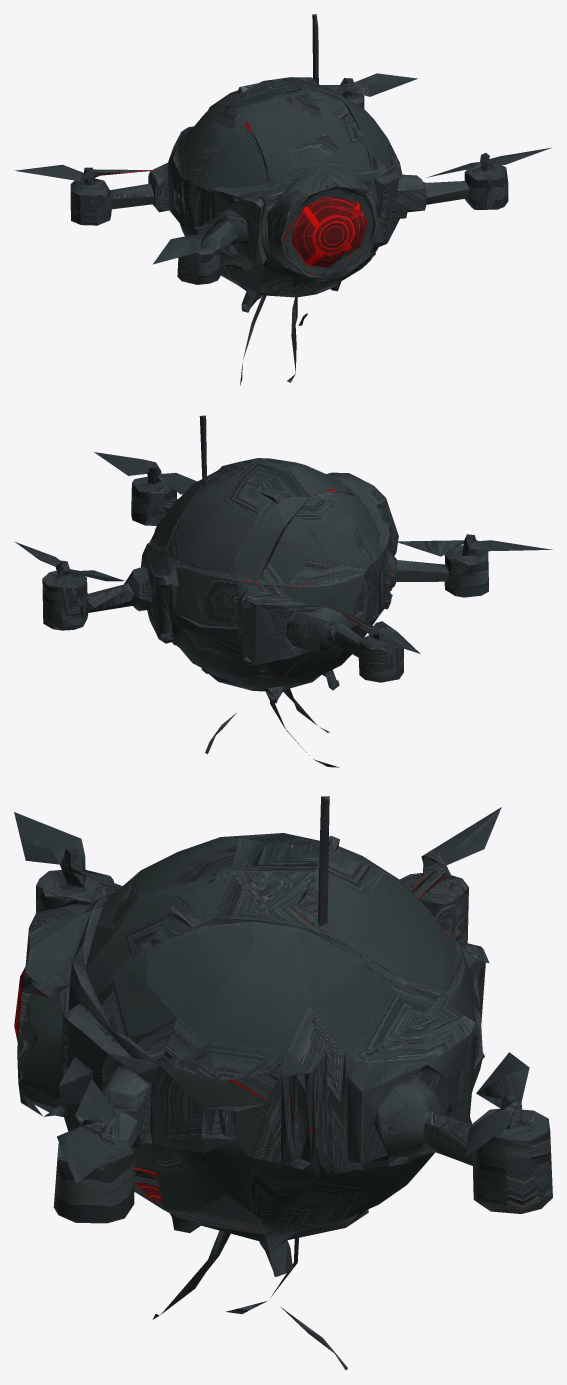
File: security_drone.glb
The picture shows the model from 3 angles, top to bottom: view 1: azimuth 30°, elevation 25°; view 2: azimuth 150°, elevation 25°; view 3: azimuth 270°, elevation 25°; orthographic projection. The views are drawn at different scales.
Size of the model in its own units: 0.9498 by 0.7 by 0.5635.
1 material, 1 textured.
